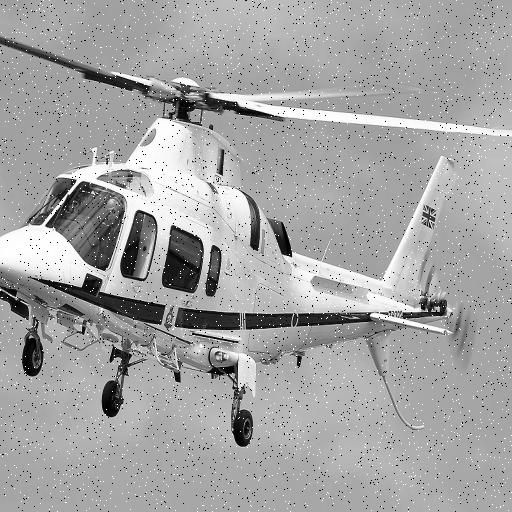helicopter: (1, 17, 444, 384)
